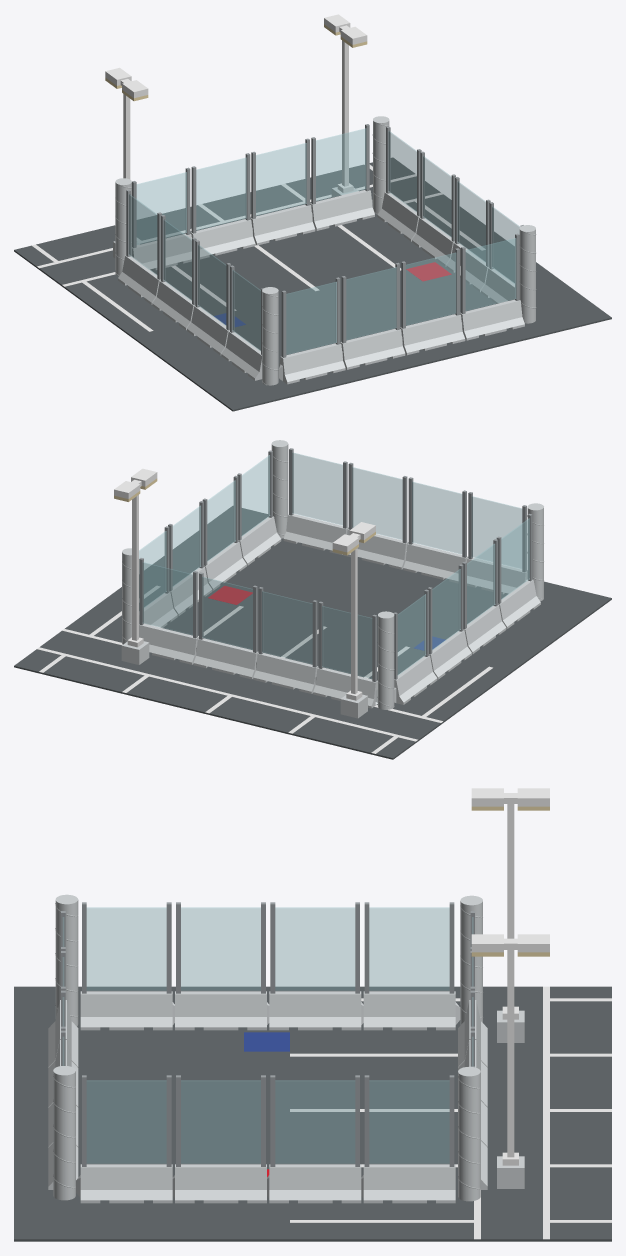
Rendered from parking-arena.obj.
3 views of the same model, one above another, from view 1: azimuth 30°, elevation 25°; view 2: azimuth 150°, elevation 25°; view 3: azimuth 270°, elevation 25° (orthographic). The views are drawn at different scales.
Visible parts, largest first — view 1: obj_0_color_6383466, obj_0_color_-1028593425, obj_0_color_14541540, obj_0_color_10988977, obj_0_color_16448250; view 2: obj_0_color_6383466, obj_0_color_-1028593425, obj_0_color_14541540, obj_0_color_10988977, obj_0_color_16448250, obj_0_color_15277357; view 3: obj_0_color_6383466, obj_0_color_-1028593425, obj_0_color_14541540, obj_0_color_16448250, obj_0_color_10988977, obj_0_color_3888547, obj_0_color_16311991.
Part boxes in pixels (<box>): obj_0_color_6383466: <box>14,157,611,411</box>; obj_0_color_-1028593425: <box>129,128,519,354</box>; obj_0_color_14541540: <box>113,116,536,385</box>; obj_0_color_10988977: <box>126,124,523,357</box>; obj_0_color_16448250: <box>31,14,485,331</box>; obj_0_color_6383466: <box>14,506,611,759</box>; obj_0_color_-1028593425: <box>139,453,529,678</box>; obj_0_color_14541540: <box>121,440,543,718</box>; obj_0_color_10988977: <box>139,448,532,681</box>; obj_0_color_16448250: <box>37,468,492,753</box>; obj_0_color_15277357: <box>208,586,252,604</box>; obj_0_color_6383466: <box>14,986,611,1241</box>; obj_0_color_-1028593425: <box>63,907,473,1163</box>; obj_0_color_14541540: <box>48,894,524,1203</box>; obj_0_color_16448250: <box>290,788,611,1239</box>; obj_0_color_10988977: <box>61,902,474,1166</box>; obj_0_color_3888547: <box>244,1032,289,1051</box>; obj_0_color_16311991: <box>471,806,549,956</box>.
Bounding box in the file's own units: 14.24 × 6.46 × 14.24.
